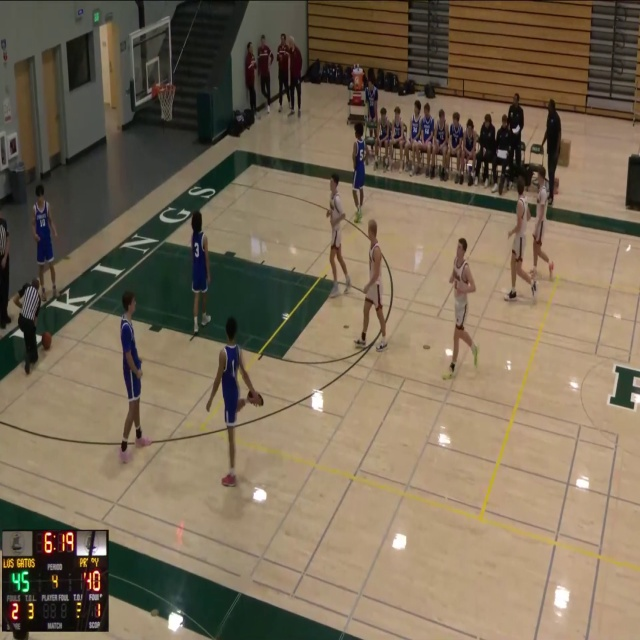Basketball: (41, 332, 52, 349)
